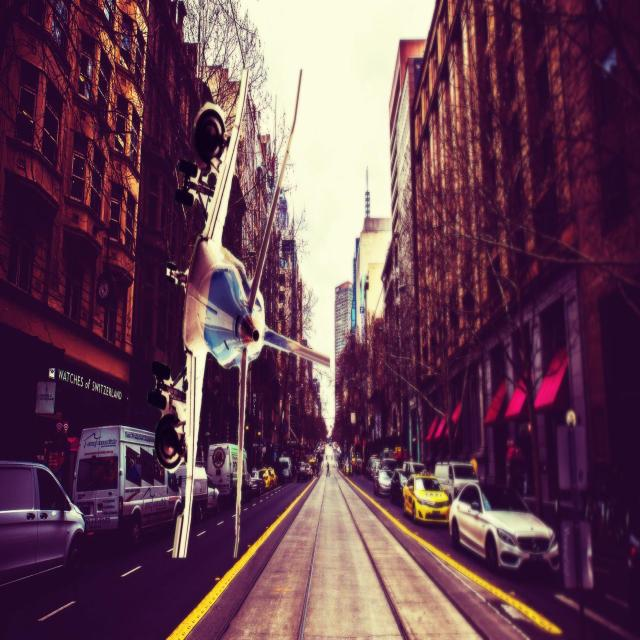airplane: (146, 65, 331, 560)
